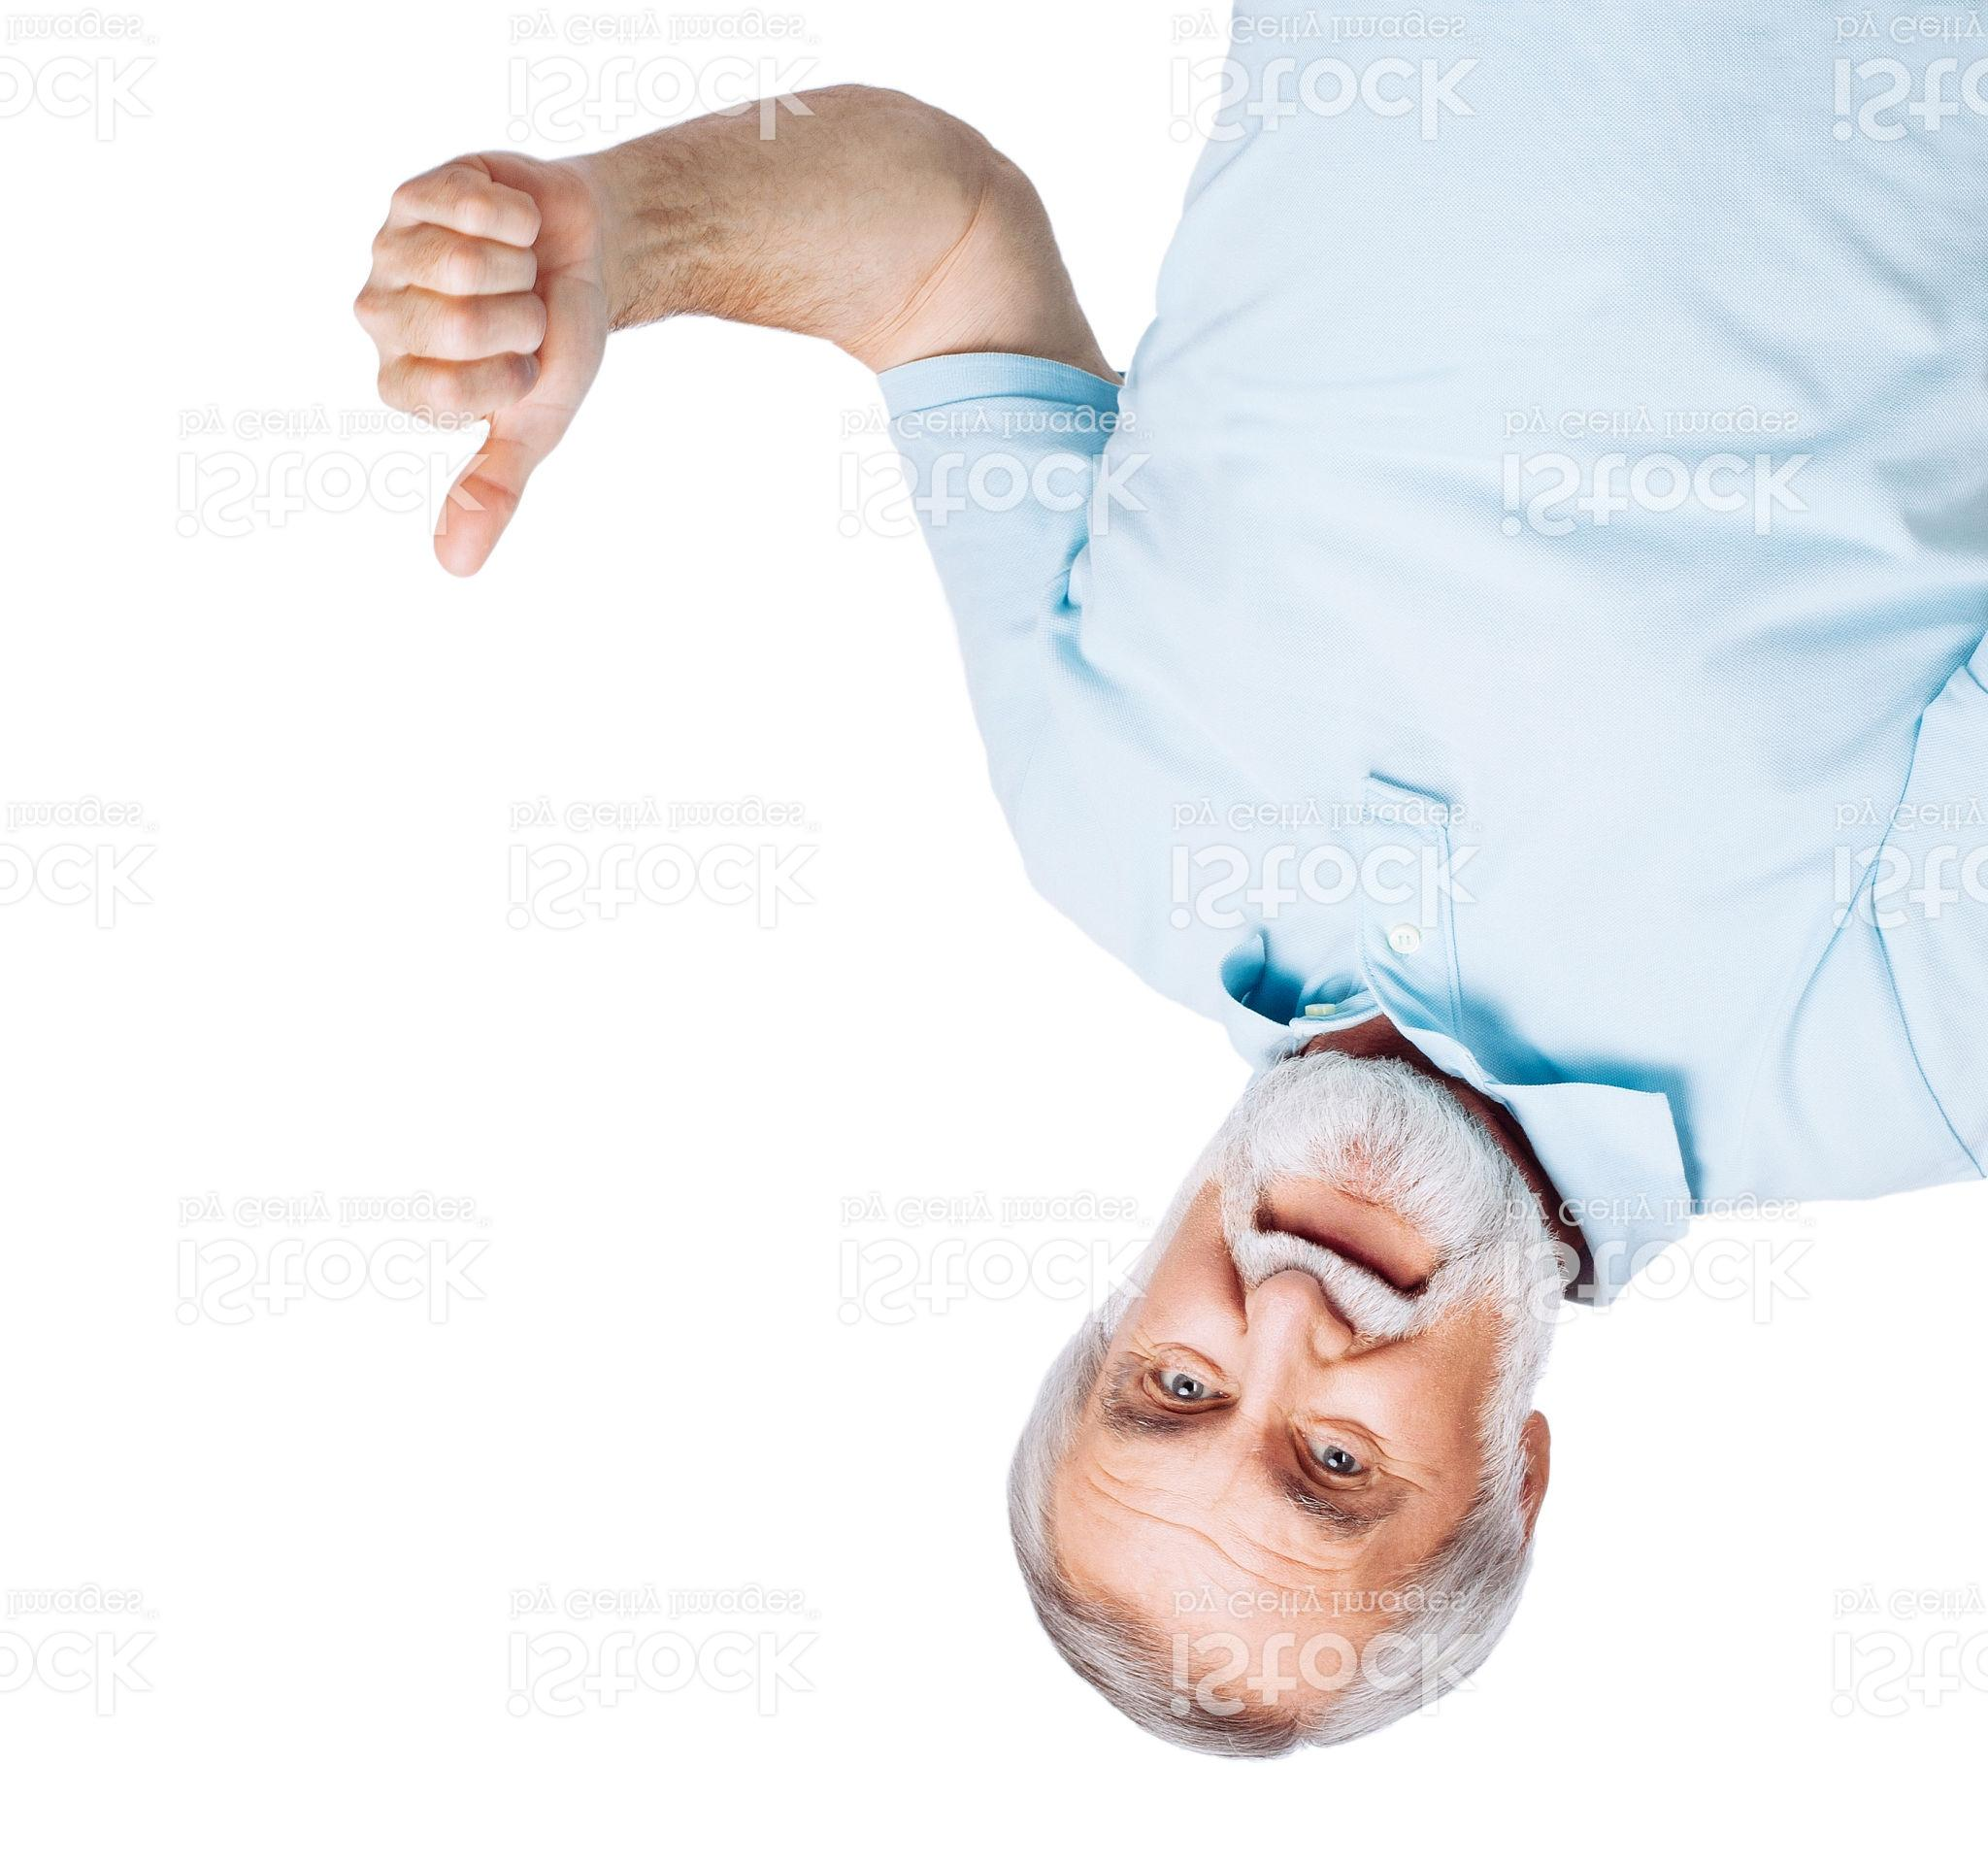thumbsdown: (350, 147, 603, 580)
